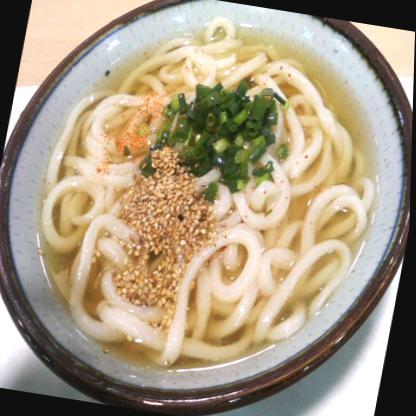Udon: (20, 0, 400, 390)
